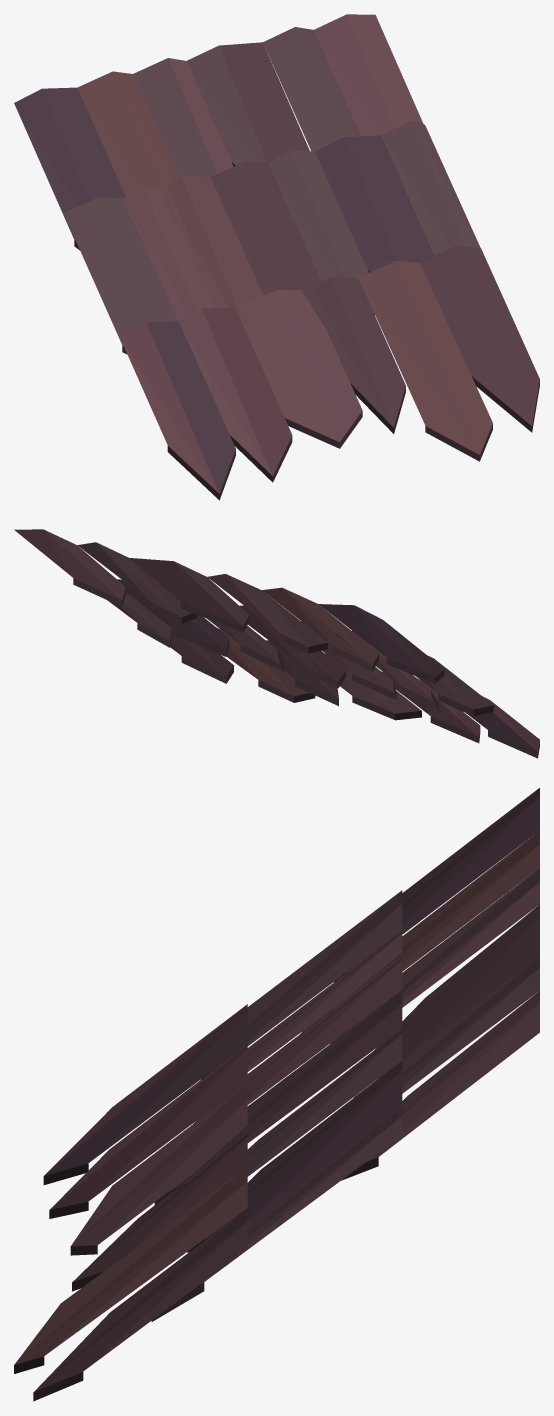
File: SplitCedar65.glb
3 views of the same model, one above another, from view 1: azimuth 30°, elevation 25°; view 2: azimuth 150°, elevation 25°; view 3: azimuth 270°, elevation 25° (orthographic). The views are drawn at different scales.
Parts seen in each view (by area): view 1: SplitCedar65; view 2: SplitCedar65; view 3: SplitCedar65.
Part boxes in pixels (x1,y1,x2,y2): SplitCedar65: [14, 14, 539, 500]; SplitCedar65: [14, 529, 539, 758]; SplitCedar65: [14, 788, 539, 1401].
Bounding box in the file's own units: 2.02 × 1.58 × 1.84.
